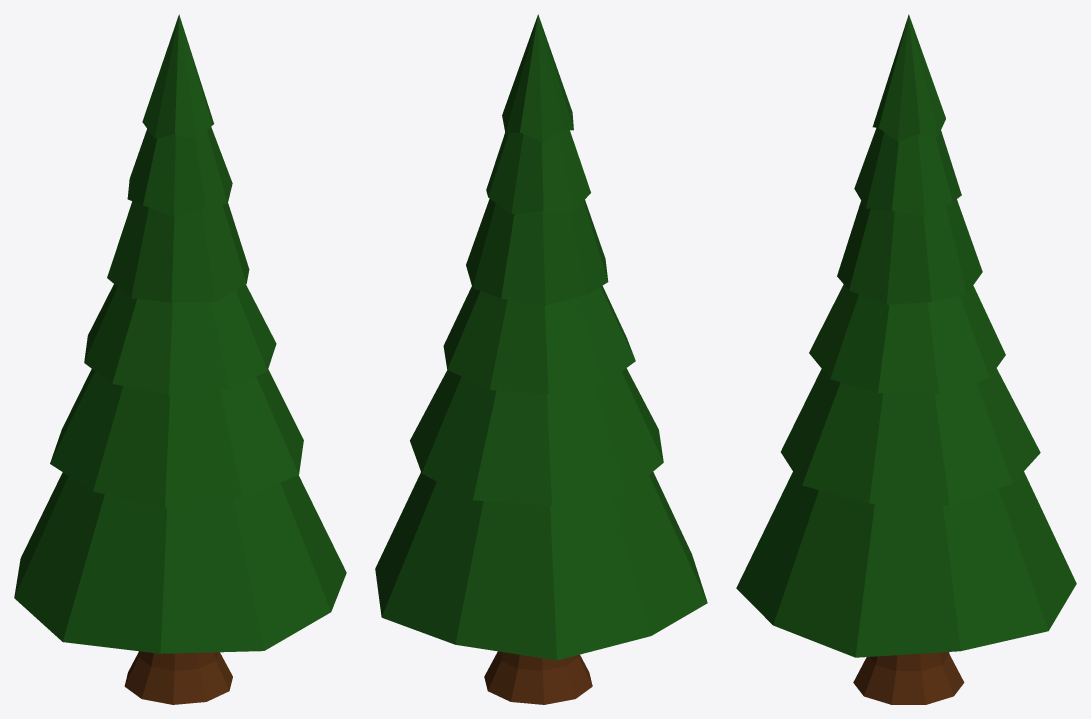
The model's file is pinetreev1.fbx.
3 renders of one model, left to right at view 1: azimuth 30°, elevation 25°; view 2: azimuth 150°, elevation 25°; view 3: azimuth 270°, elevation 25°, orthographic.
Visible parts, largest first — view 1: Cylinder; view 2: Cylinder; view 3: Cylinder.
Part boxes in pixels (x1,y1,x2,y2): Cylinder: (14,14,346,704); Cylinder: (375,14,707,704); Cylinder: (736,14,1076,704).
Bounding box in the file's own units: 591 × 1326 × 612.
